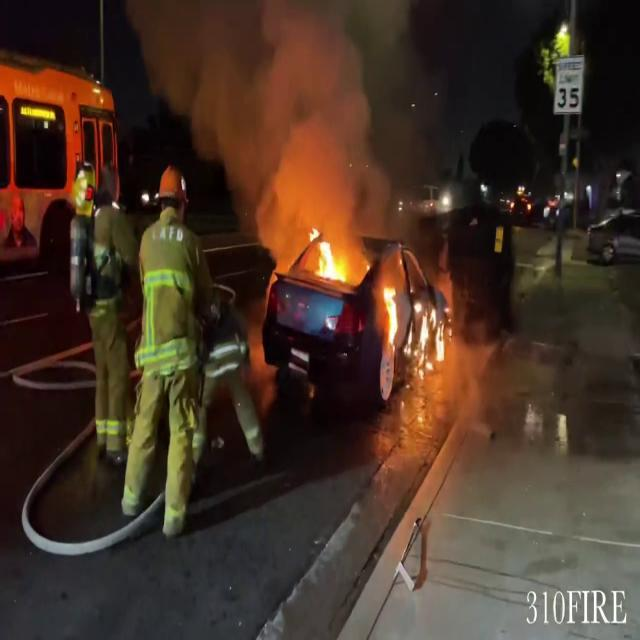Fire: (407, 292, 449, 378), (303, 226, 352, 290), (382, 277, 401, 347)
Smoke: (159, 0, 405, 229)
